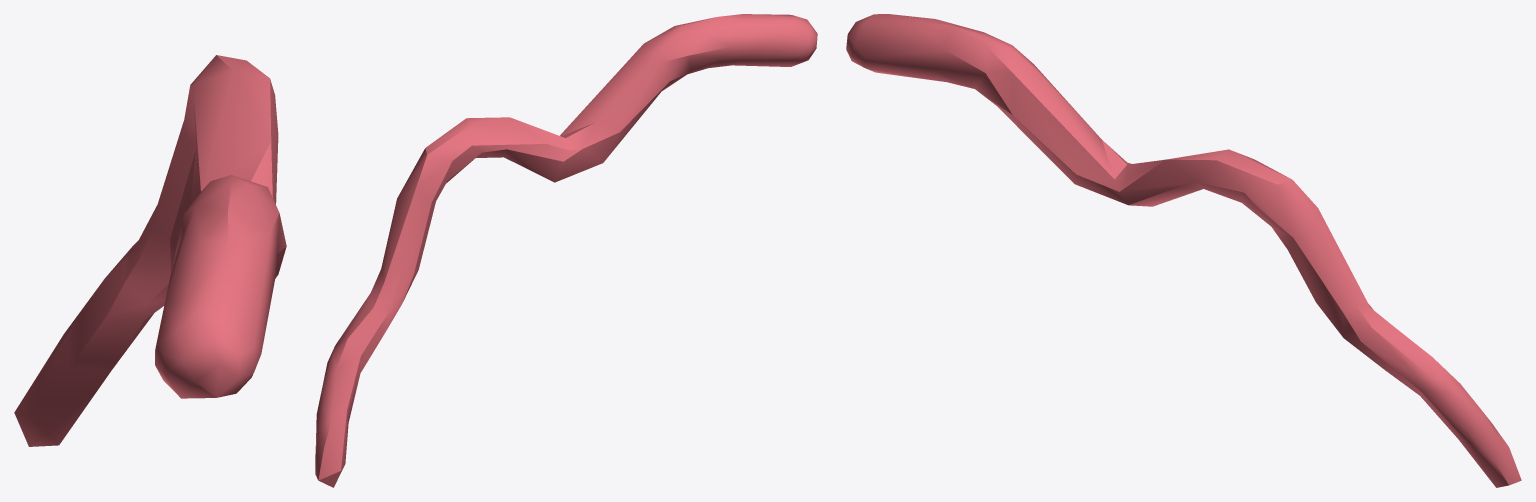
File: fma3860_fj2638.glb
3 views of the same model, side by side, from view 1: azimuth 30°, elevation 25°; view 2: azimuth 150°, elevation 25°; view 3: azimuth 270°, elevation 25° (orthographic). The views are drawn at different scales.
Parts seen in each view (by area): view 1: FMA3860_FJ2638; view 2: FMA3860_FJ2638; view 3: FMA3860_FJ2638.
Boxes of the visible parts, bbox=[...] form: FMA3860_FJ2638: bbox=[14, 55, 286, 446]; FMA3860_FJ2638: bbox=[315, 14, 817, 487]; FMA3860_FJ2638: bbox=[846, 14, 1521, 487].
Bounding box in the file's own units: 0.00508 × 0.00659 × 0.0106.
